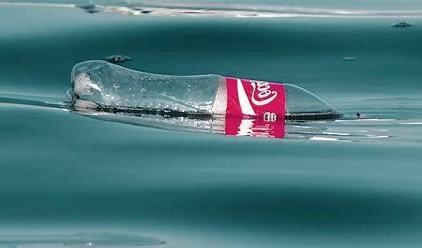Plastic: (67, 61, 341, 129)
